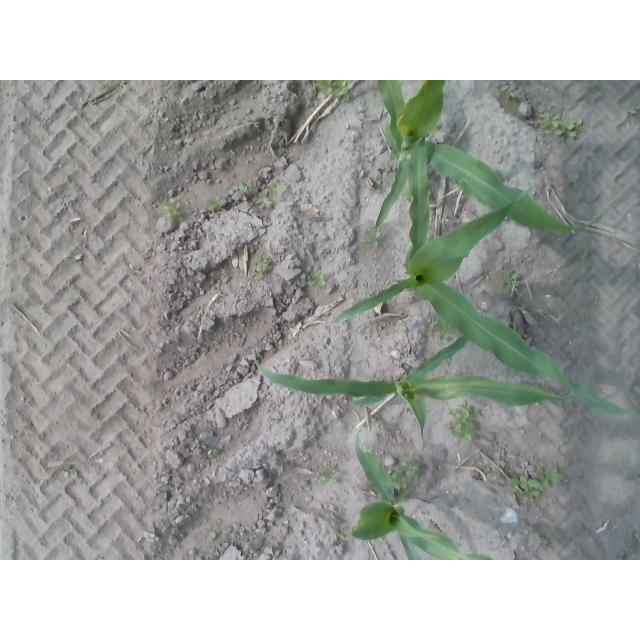Maize: (334, 186, 640, 418), (374, 83, 606, 272), (255, 333, 593, 440), (351, 422, 524, 559)
Weeds: (534, 114, 585, 143), (448, 402, 483, 444), (509, 471, 539, 505), (321, 82, 355, 102), (315, 461, 341, 487), (542, 465, 567, 491), (260, 183, 289, 204), (397, 458, 427, 477), (208, 524, 235, 545), (307, 268, 329, 291), (253, 256, 272, 280), (164, 197, 185, 217), (366, 229, 382, 252), (231, 183, 252, 200), (207, 193, 225, 211), (504, 271, 520, 290), (124, 265, 146, 278), (73, 247, 88, 265)
